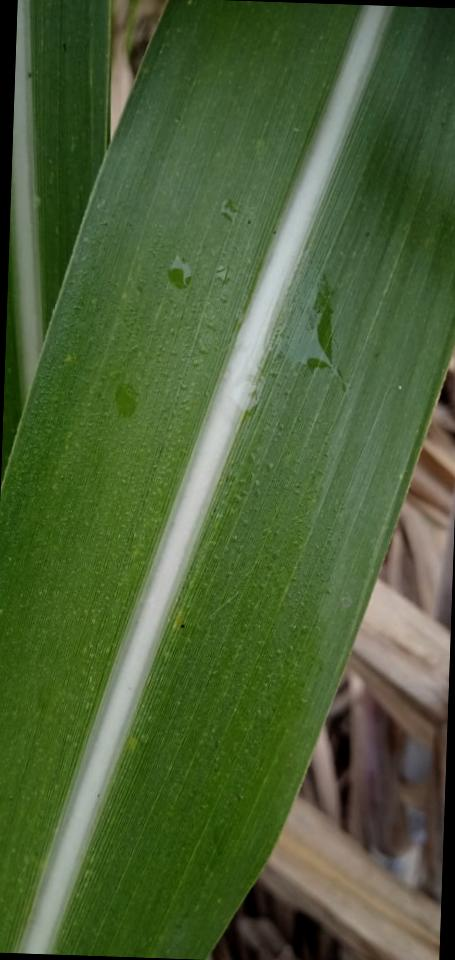Healthy: (0, 0, 455, 959), (5, 0, 111, 452)
